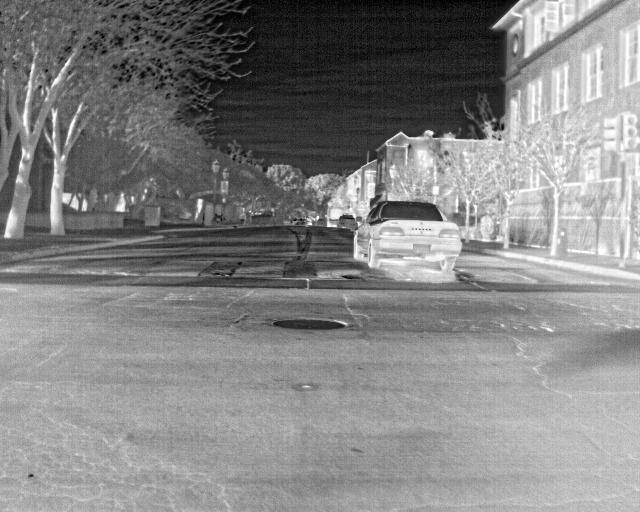car: (353, 200, 462, 274), (337, 212, 357, 231)
